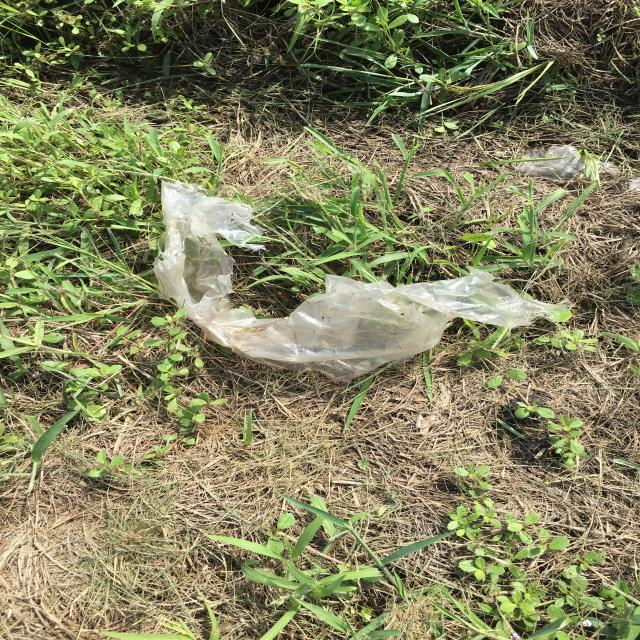litter: (152, 180, 570, 383)
